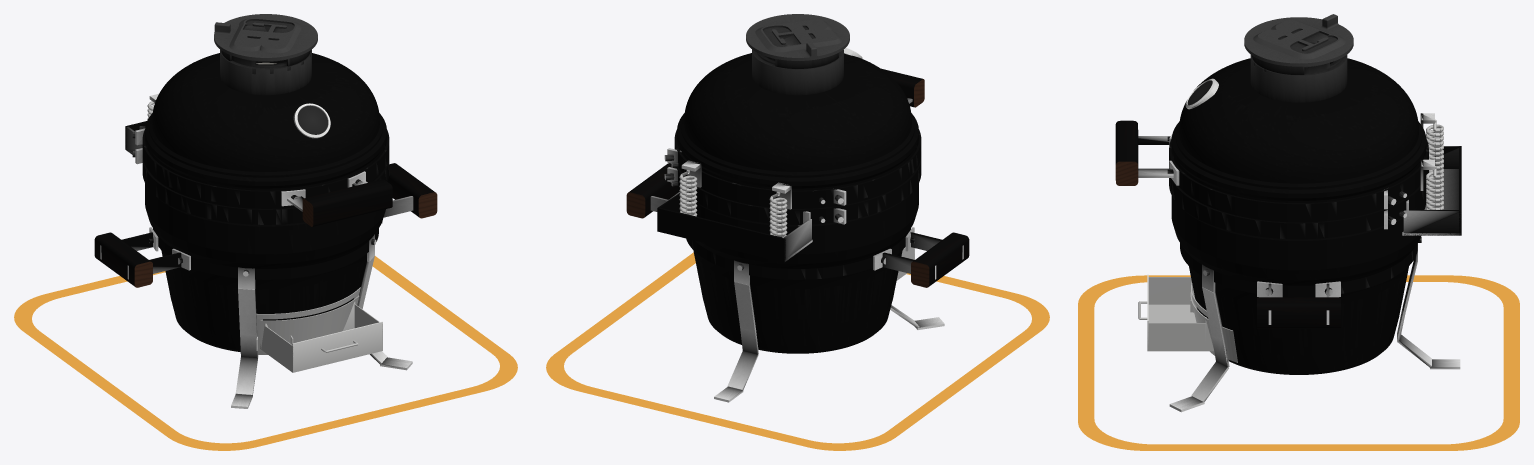
The model's file is grill-bill-pro-3-medium-16-v9.glb.
3 views of the same model, side by side, from view 1: azimuth 30°, elevation 25°; view 2: azimuth 150°, elevation 25°; view 3: azimuth 270°, elevation 25° (orthographic). The views are drawn at different scales.
Visible parts, largest first — view 1: base, lid; view 2: base, lid; view 3: base, lid.
Part boxes in pixels (<box>): base: <box>14,101,517,450</box>; lid: <box>132,14,392,226</box>; base: <box>546,145,1049,450</box>; lid: <box>664,14,924,209</box>; base: <box>1078,119,1519,450</box>; lid: <box>1115,14,1434,219</box>.
Size of the model in its own units: 0.6441 by 0.5715 by 0.6853.
20 materials, 7 textured.
